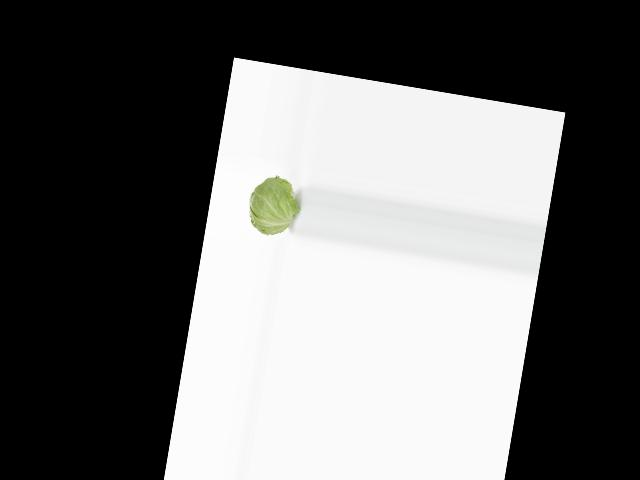lettuce: (243, 170, 298, 242)
